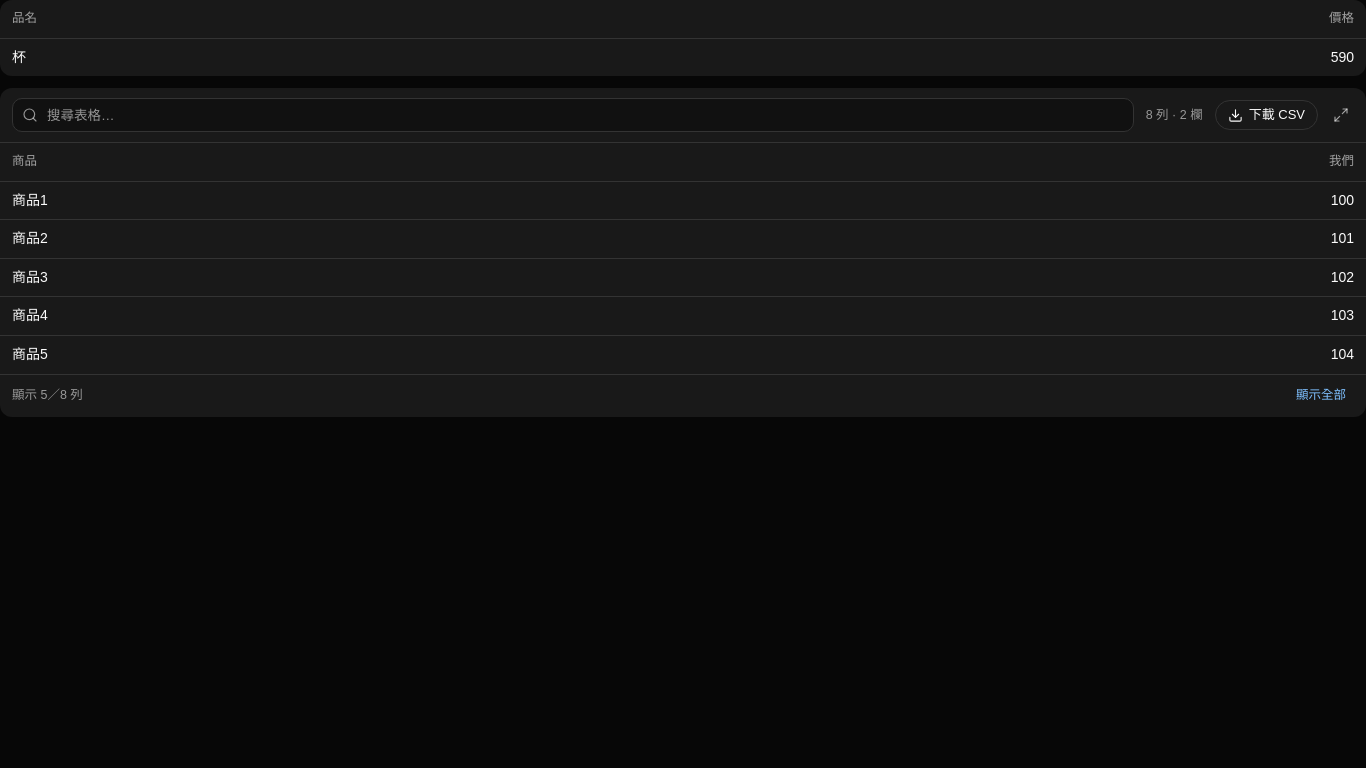
it: Markdown › 小表格直接顯示；超過 5 列有工具列、先收起、可搜尋
Expected: the text "8 列 · 2 欄" is shown, 1142,106 -> 1207,124
Click the button "顯示全部". click: x=1321, y=396
box: 1288,383 -> 1354,409
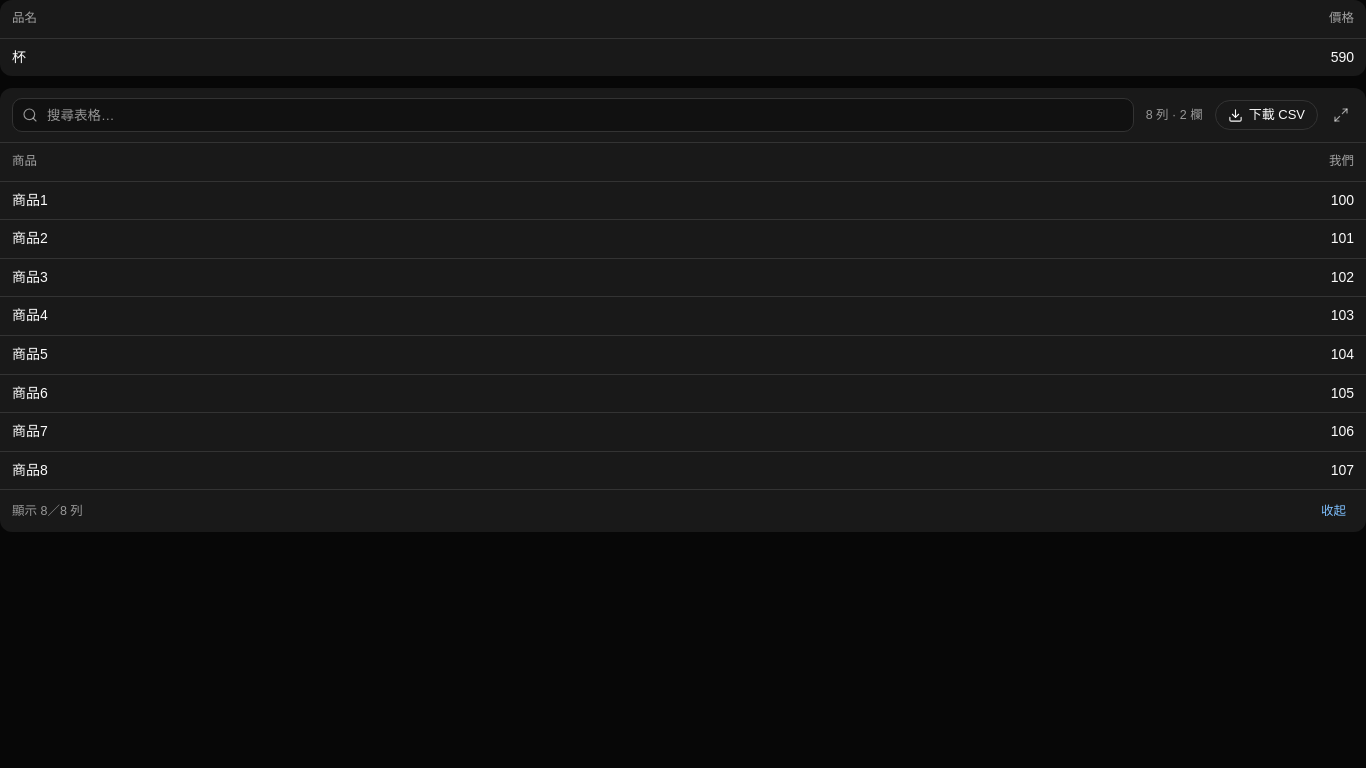
Type "商品7" into the search field labelled "搜尋表格". click: x=573, y=115
box: 12,98 -> 1134,132
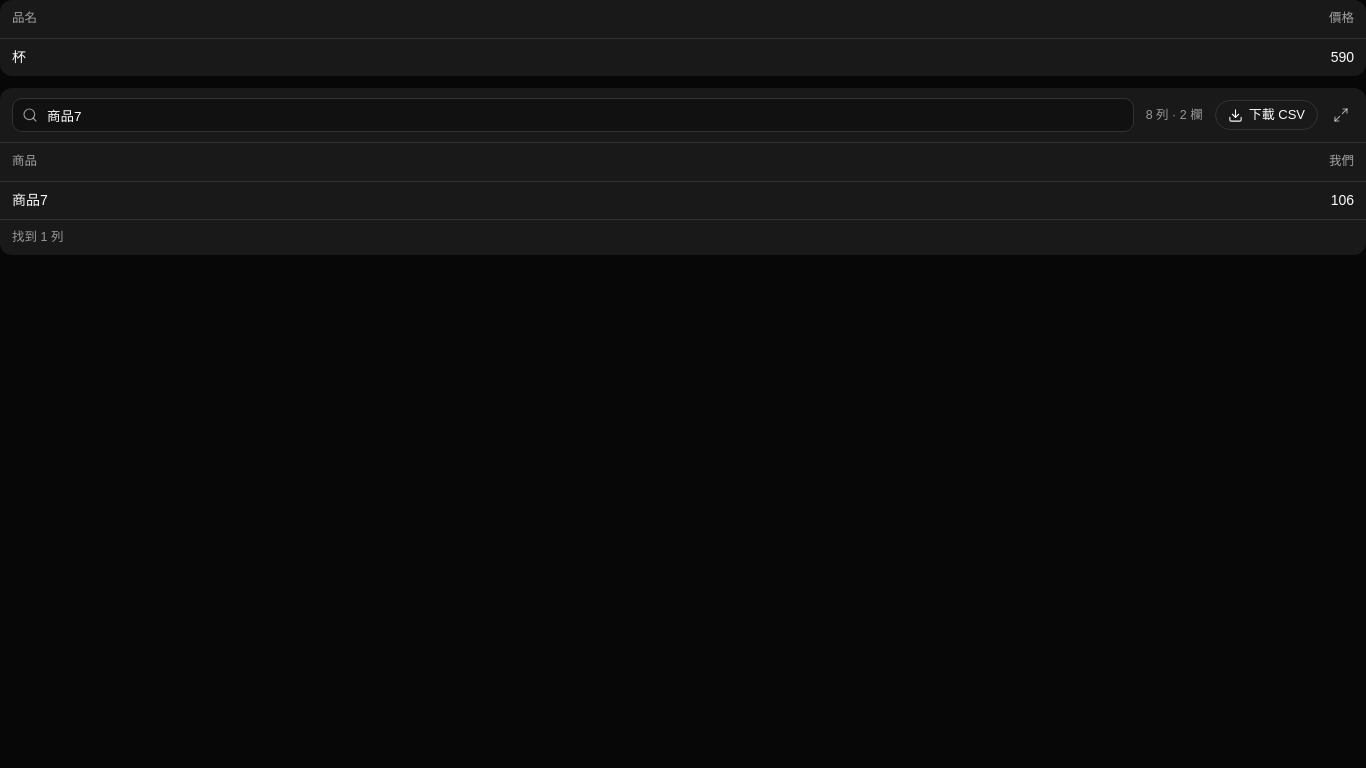
Expected: the text "找到 1 列" is shown, 12,228 -> 63,247
